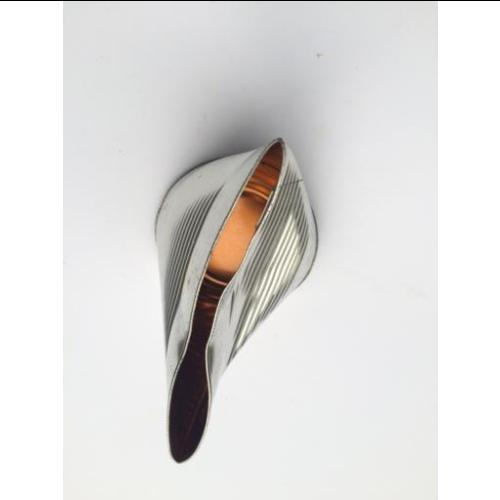metal: (151, 138, 320, 464)
